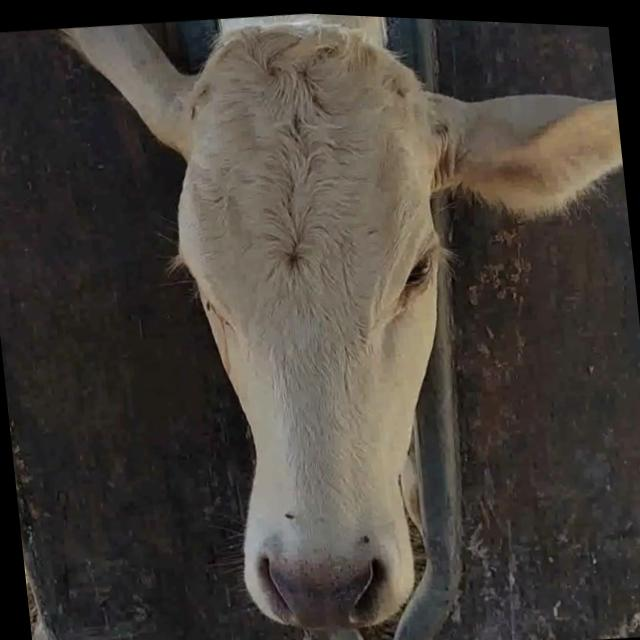cowFace: (158, 8, 478, 638)
